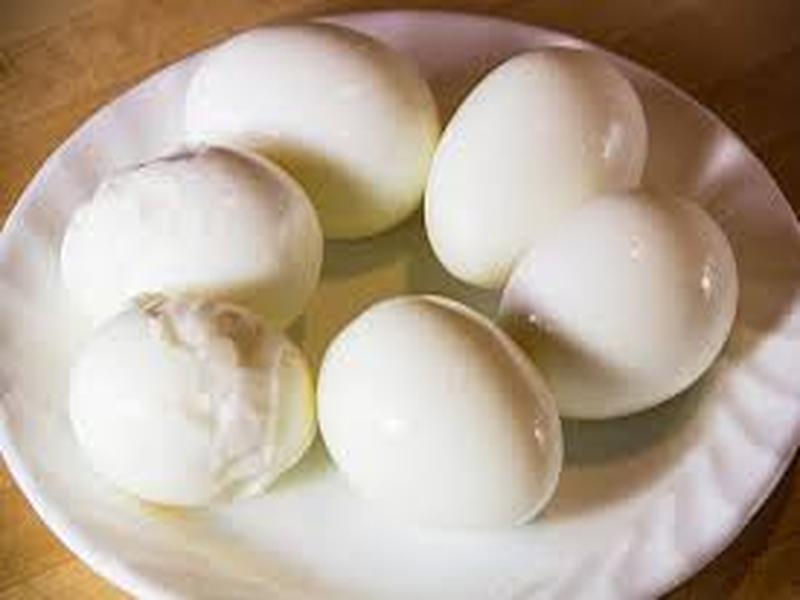egg: (21, 15, 742, 600)
